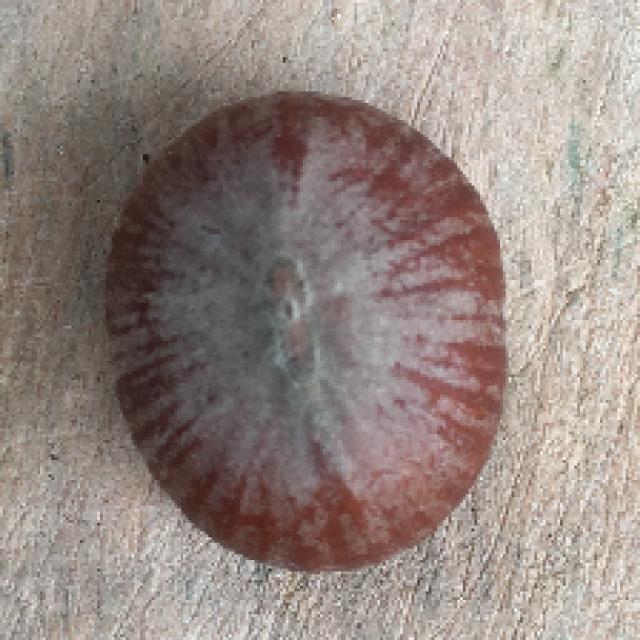qualityHazelnut: (92, 79, 524, 589)
